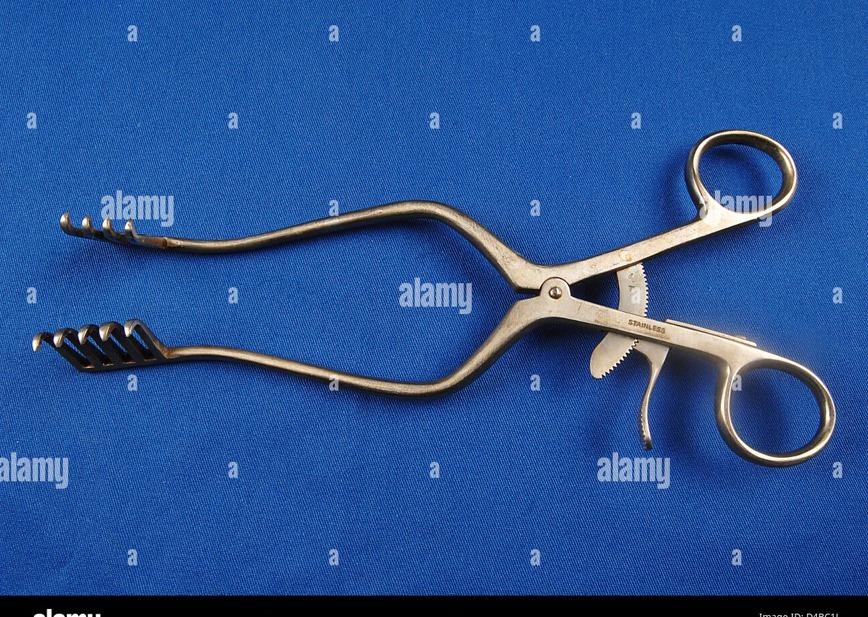Self Retractor: (24, 128, 842, 469)
